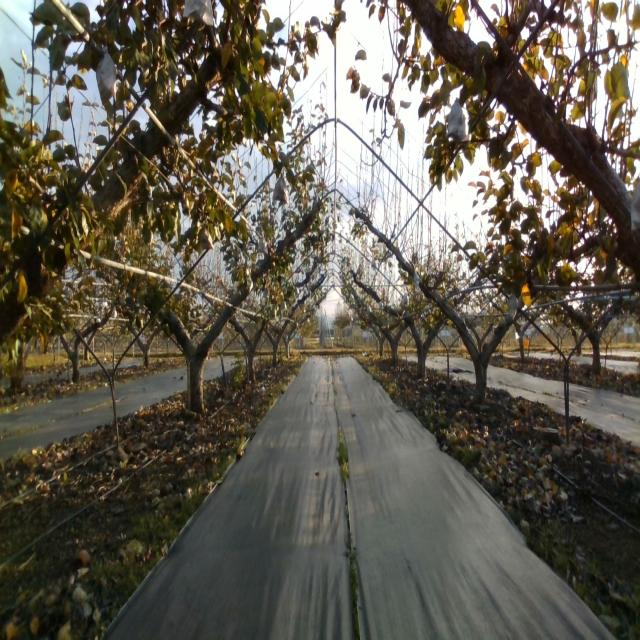pearbags: (95, 45, 116, 106), (446, 96, 469, 142), (272, 174, 290, 206), (200, 228, 214, 250), (508, 293, 518, 321)
